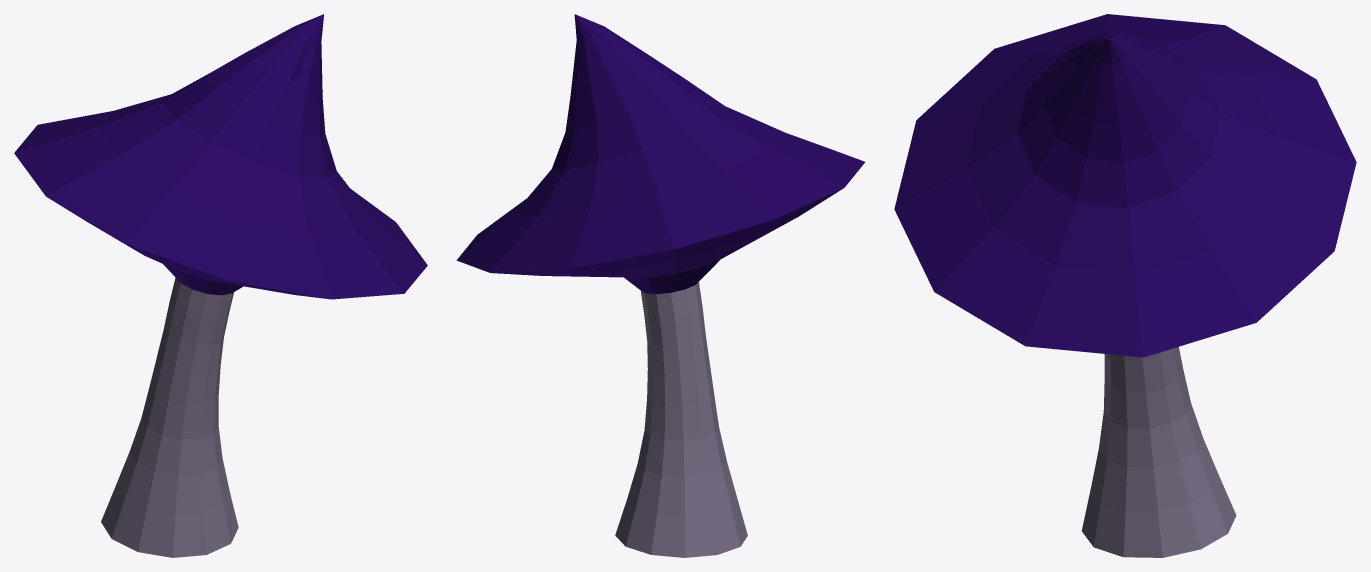
The model's file is mushroom4.fbx.
The picture shows the model from 3 angles, left to right: view 1: azimuth 30°, elevation 25°; view 2: azimuth 150°, elevation 25°; view 3: azimuth 270°, elevation 25°; orthographic projection. The views are drawn at different scales.
Visible parts, largest first — view 1: mushroom4, stalk4; view 2: mushroom4, stalk4; view 3: mushroom4, stalk4.
Boxes of the visible parts, x1=… form: mushroom4: x1=14, y1=14, x2=427, y2=299; stalk4: x1=101, y1=277, x2=238, y2=557; mushroom4: x1=456, y1=14, x2=864, y2=294; stalk4: x1=615, y1=282, x2=747, y2=557; mushroom4: x1=894, y1=14, x2=1356, y2=357; stalk4: x1=1081, y1=347, x2=1236, y2=557.
Size of the model in its own units: 69.02 by 90.07 by 67.06.
